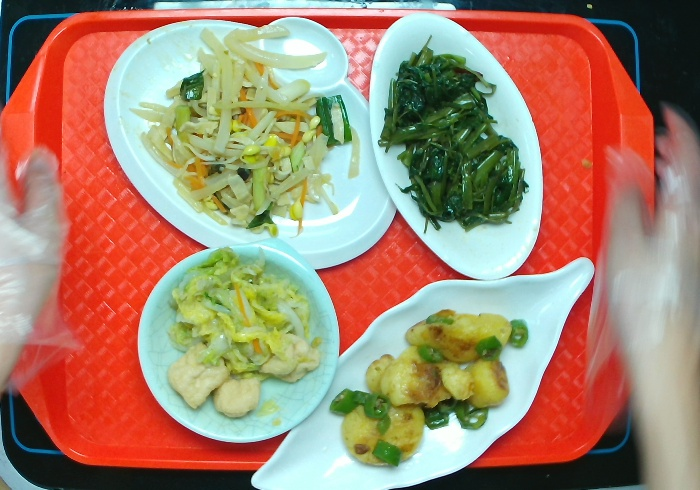RJxy-Bai_Se_Tuo_Yuan: (362, 9, 549, 283)
RJxy-Shu_Ye_Pan: (246, 251, 600, 490)
RJxy-Xiao_Jiao_Yuan_Wan: (132, 229, 342, 448)
RJxy-Zhan_Liao_Pan: (97, 11, 402, 273)
